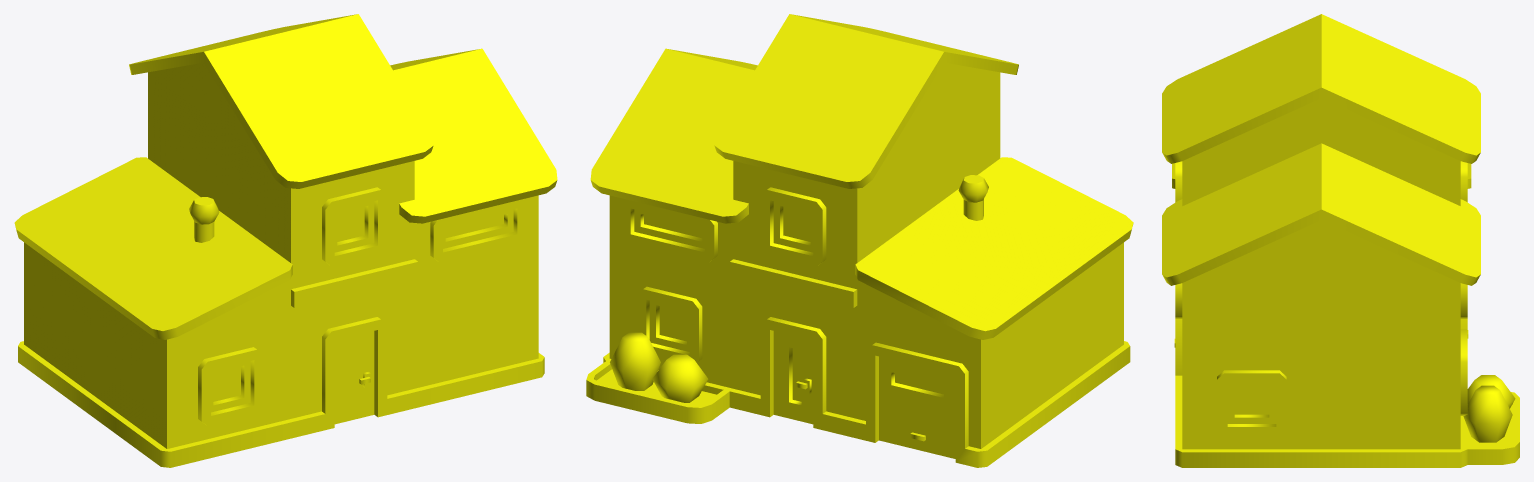
The model's file is residential-1.glb.
3 views of the same model, side by side, from view 1: azimuth 30°, elevation 25°; view 2: azimuth 150°, elevation 25°; view 3: azimuth 270°, elevation 25° (orthographic). The views are drawn at different scales.
Parts seen in each view (by area): view 1: building-type-c; view 2: building-type-c; view 3: building-type-c.
Boxes of the visible parts, box(x1,y1,x2,y2) form: building-type-c: box(14, 14, 557, 467); building-type-c: box(586, 14, 1133, 467); building-type-c: box(1162, 14, 1519, 467).
Size of the model in its own units: 1.29 by 1.03 by 1.03.
1 material, 1 textured.
